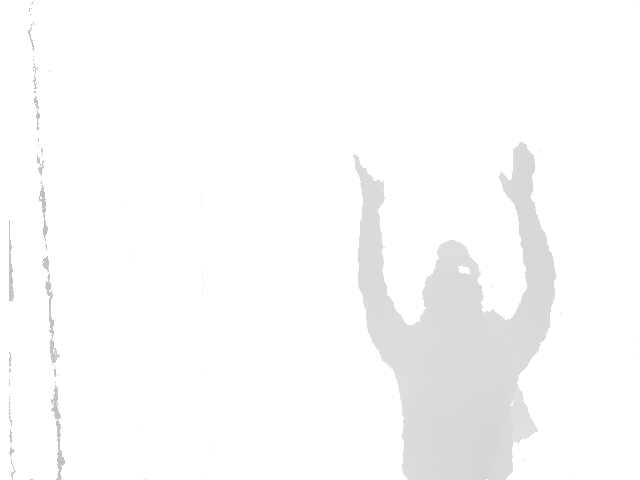hand: (498, 141, 536, 200), (350, 151, 387, 211)
head: (419, 239, 487, 316)
person: (352, 142, 560, 479)
